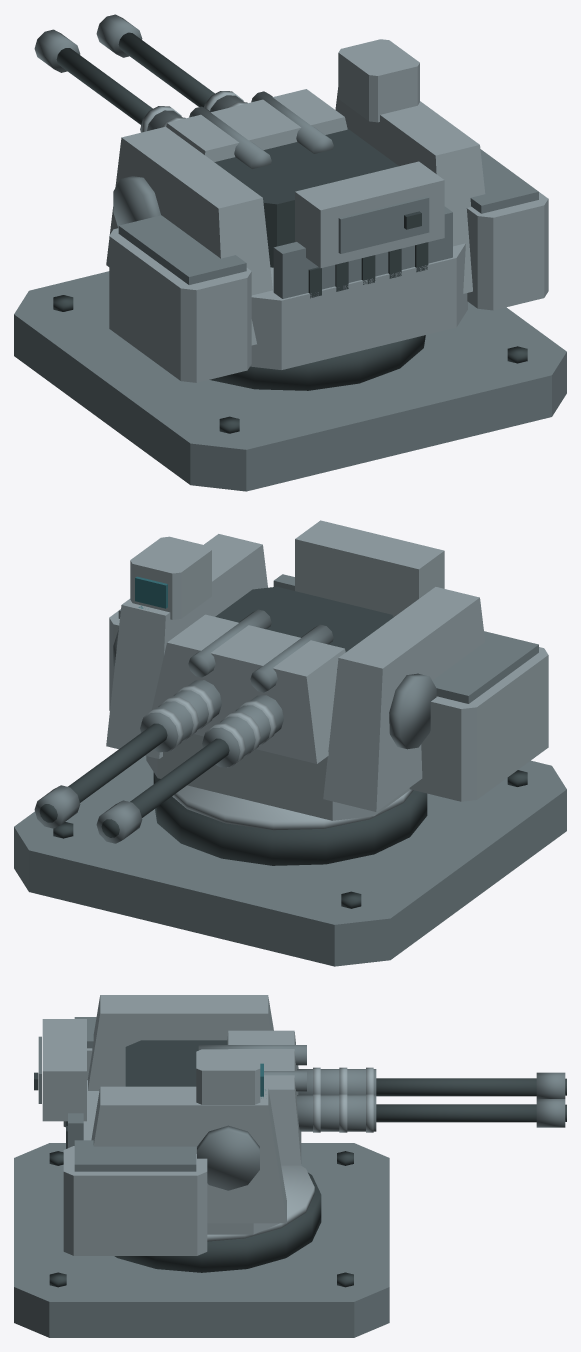
The model's file is MOD_Nobong_U2.fbx.
3 renders of one model, top to bottom at view 1: azimuth 30°, elevation 25°; view 2: azimuth 150°, elevation 25°; view 3: azimuth 270°, elevation 25°, orthographic. The views are drawn at different scales.
Parts seen in each view (by area): view 1: DeckAdapter, TurretDriveHousing, AmmunitionFeedBox, AngularShieldCheek, RearControlPack, AngularShieldCheek.001, AmmunitionFeedBox.001, TwinBreechBlock, FacetedMantlet, OpticalSight, TraverseRing, AmmoBoxLid (+10 smaller); view 2: DeckAdapter, AngularShieldCheek, FacetedMantlet, AmmunitionFeedBox, AngularShieldCheek.001, RearControlPack, TraverseRing, TurretDriveHousing, TwinBreechBlock, OpticalSight, RingShoulder, AmmoBoxLid (+10 smaller); view 3: DeckAdapter, AmmunitionFeedBox.001, AngularShieldCheek.001, AngularShieldCheek, TraverseRing, RearControlPack, FacetedMantlet, OpticalSight, TwinBreechBlock, AmmoBoxLid.001, TrunnionCover.001, GunTube (+9 smaller).
Part boxes in pixels (x1,y1,x2,y2): DeckAdapter: (14, 271, 566, 491); TurretDriveHousing: (250, 243, 467, 369); AmmunitionFeedBox: (109, 228, 251, 382); AngularShieldCheek: (106, 126, 272, 345); RearControlPack: (295, 161, 444, 268); AngularShieldCheek.001: (335, 87, 485, 293); AmmunitionFeedBox.001: (466, 192, 548, 310); TwinBreechBlock: (214, 129, 398, 267); FacetedMantlet: (166, 89, 347, 161); OpticalSight: (338, 39, 419, 122); TraverseRing: (209, 335, 425, 390); AmmoBoxLid: (118, 215, 246, 284); DeckAdapter: (14, 755, 566, 966); AngularShieldCheek: (323, 587, 485, 811); FacetedMantlet: (151, 614, 345, 763); AmmunitionFeedBox: (409, 647, 548, 801); AngularShieldCheek.001: (106, 534, 267, 758); RearControlPack: (295, 520, 444, 616); TraverseRing: (153, 772, 427, 865); TurretDriveHousing: (146, 734, 410, 820); TwinBreechBlock: (215, 586, 393, 669); OpticalSight: (130, 536, 211, 619); RingShoulder: (172, 785, 413, 830); AmmoBoxLid: (432, 631, 538, 703); DeckAdapter: (14, 1143, 389, 1337); AmmunitionFeedBox.001: (63, 1146, 207, 1255); AngularShieldCheek.001: (91, 1086, 286, 1223); AngularShieldCheek: (87, 995, 273, 1090); TraverseRing: (114, 1172, 321, 1272); RearControlPack: (42, 1019, 86, 1121); FacetedMantlet: (227, 1030, 301, 1165); OpticalSight: (196, 1049, 260, 1104); TwinBreechBlock: (125, 1040, 227, 1086); AmmoBoxLid.001: (74, 1140, 196, 1171); TrunnionCover.001: (197, 1125, 259, 1190); GunTube: (376, 1078, 536, 1096).
Bounding box in the file's own units: 170 × 121 × 250.
